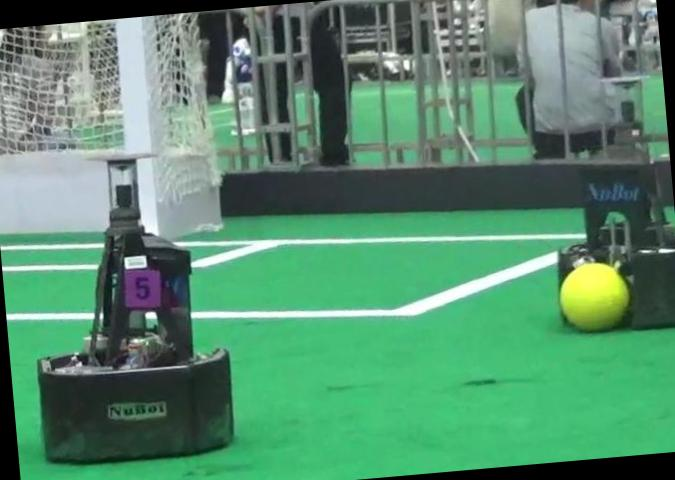ball: (558, 262, 628, 330)
goal: (115, 18, 157, 233)
robot: (36, 159, 232, 462), (558, 79, 675, 328)
